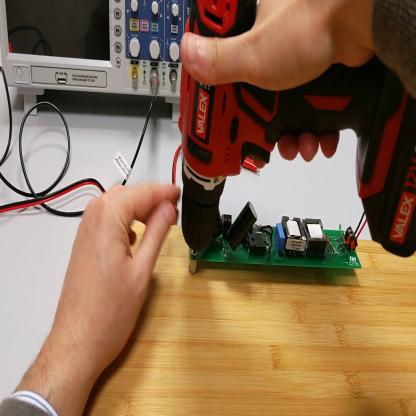electric screwdriver: (179, 2, 416, 262)
hand: (180, 3, 370, 168), (54, 181, 179, 374)
high voltage board: (190, 213, 370, 274)
oscilloscope: (1, 2, 196, 125)
working area: (84, 211, 416, 416)
